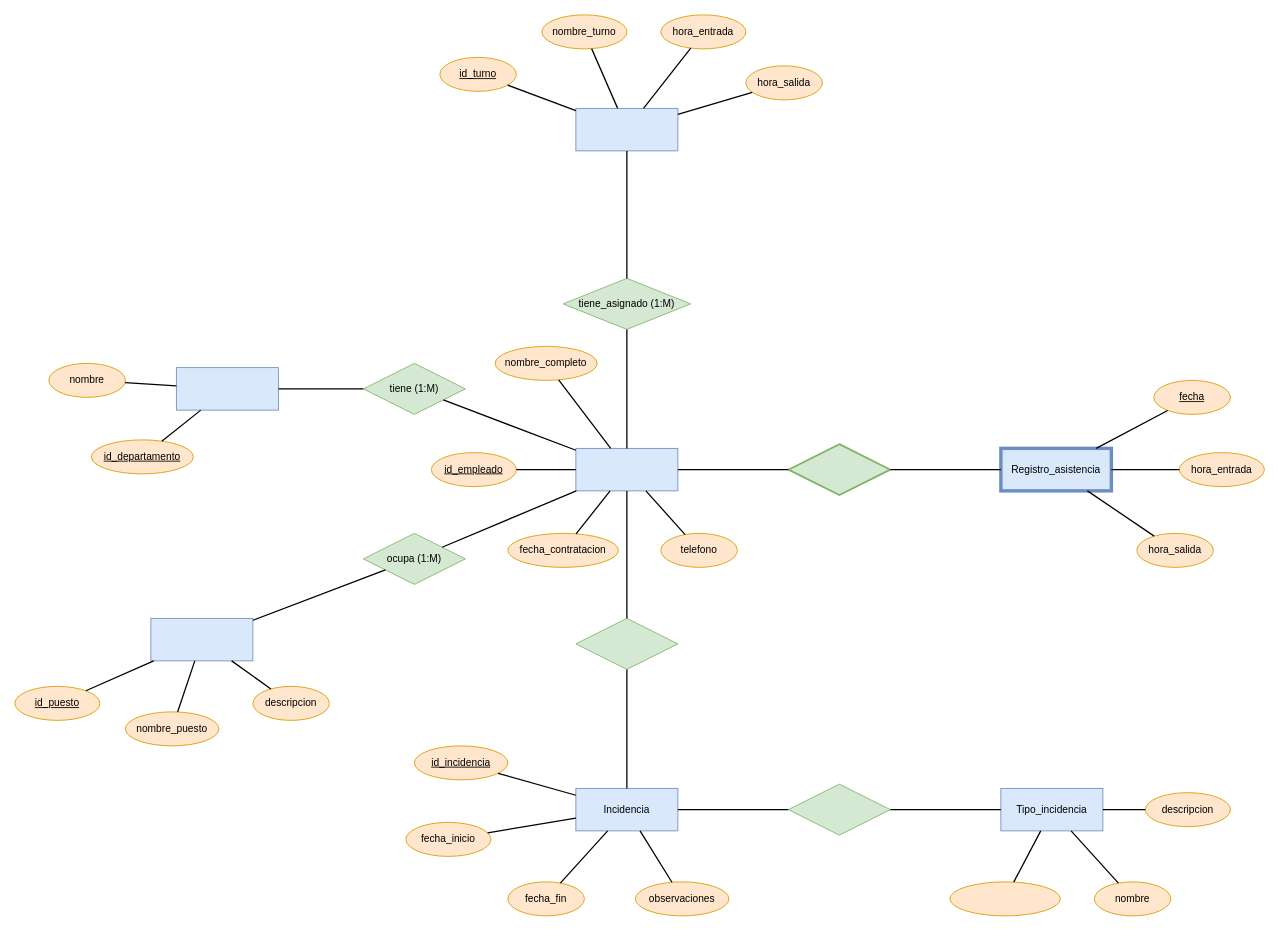
Image size: 1279x931. Some labels were removed from this diagram. The centre of each missing label's shape, as x and y in pixels:
"Departamento" belongs at point (227, 388).
"Empleado" belongs at point (626, 469).
"es_de (M:1)" belongs at point (839, 809).
"genera (1:M)" belongs at point (839, 469).
"id_tipo_incidencia" belongs at point (1004, 898).
"presenta (1:M)" belongs at point (626, 643).
"Puesto" belongs at point (201, 639).
"Turno" belongs at point (626, 129).
